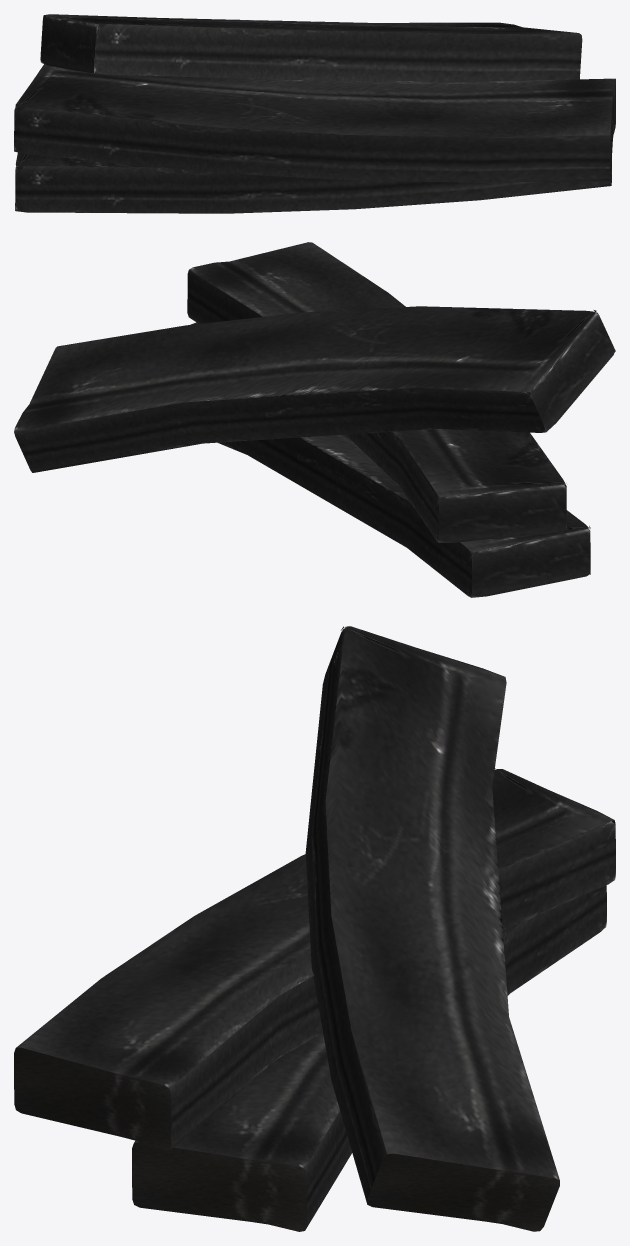
Rendered from Ammo_MP5.fbx.
3 renders of one model, top to bottom at view 1: azimuth 30°, elevation 25°; view 2: azimuth 150°, elevation 25°; view 3: azimuth 270°, elevation 25°, orthographic. The views are drawn at different scales.
Parts seen in each view (by area): view 1: polySurface1; view 2: polySurface1; view 3: polySurface1.
Boxes of the visible parts, x1=… form: polySurface1: x1=14, y1=14, x2=615, y2=213; polySurface1: x1=14, y1=242, x2=615, y2=597; polySurface1: x1=14, y1=626, x2=615, y2=1231.
Size of the model in its own units: 5.52 by 2.12 by 3.92.
